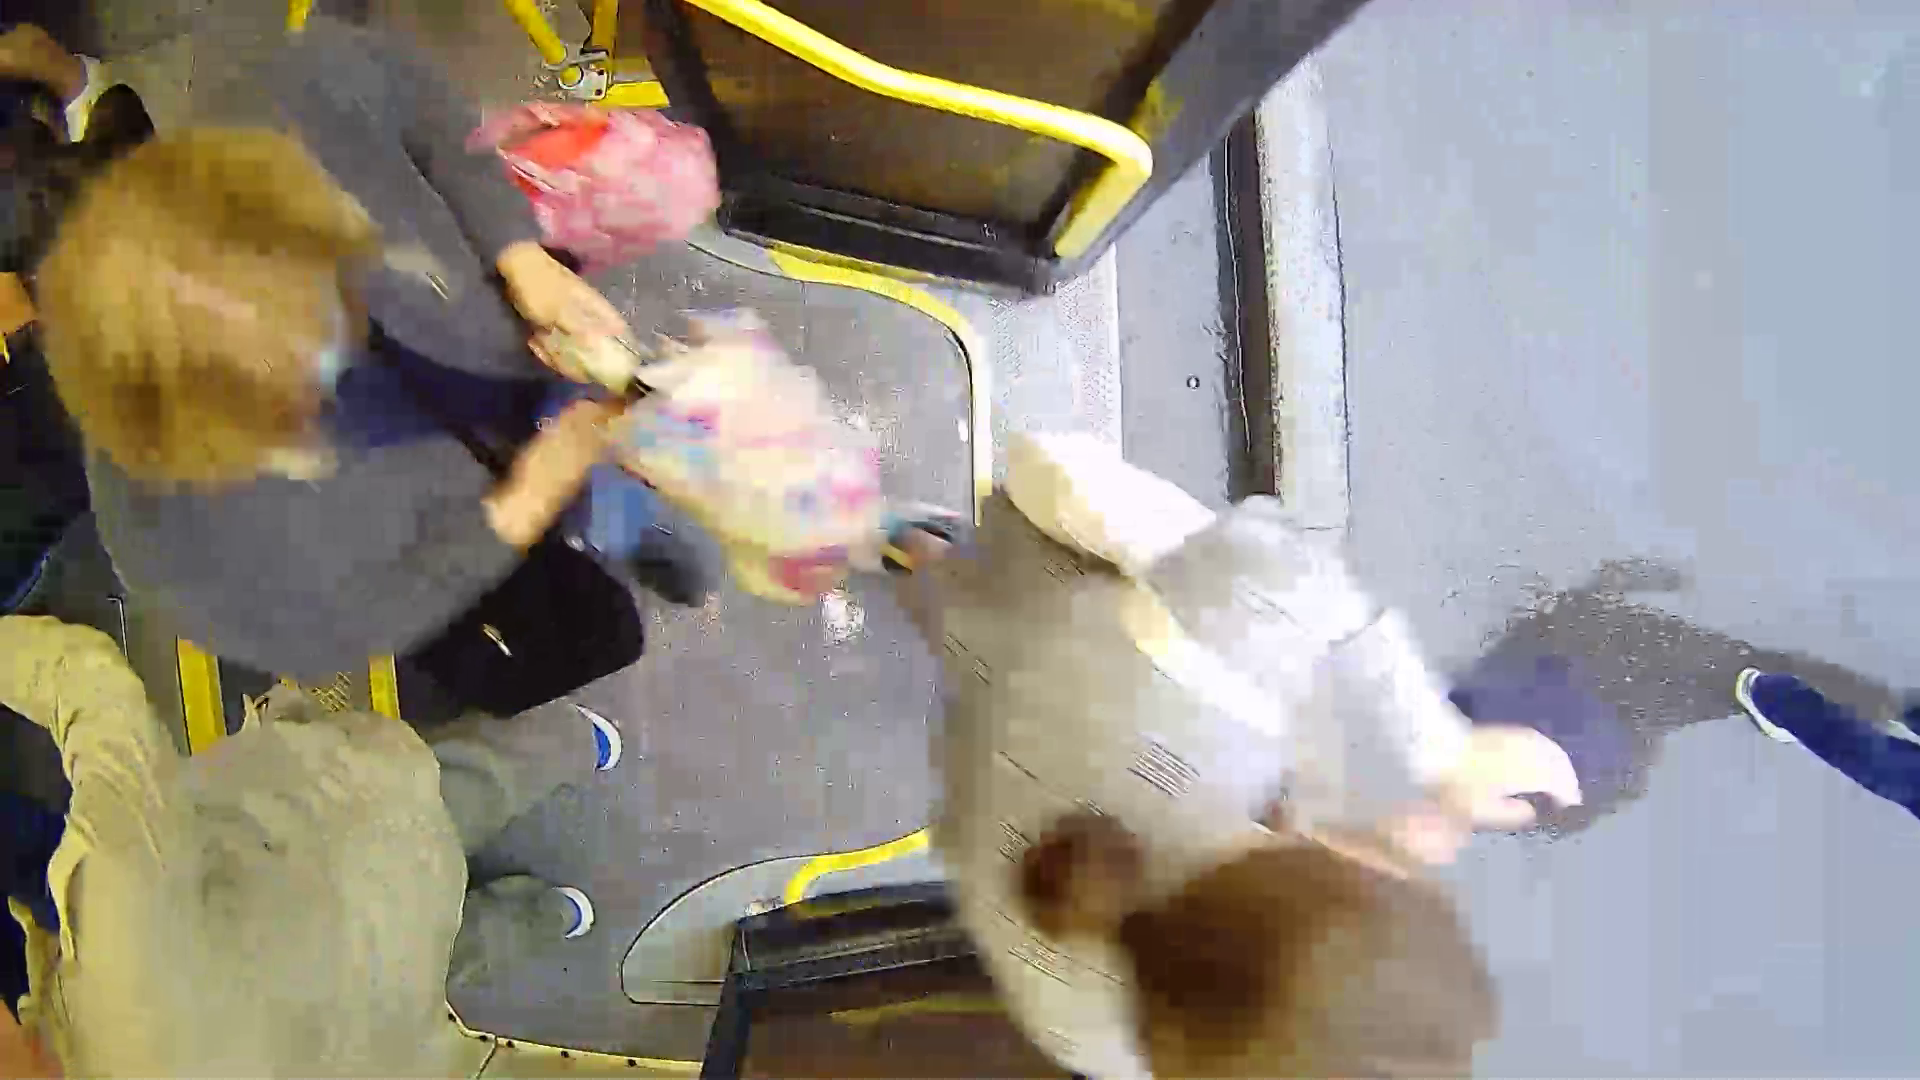person: (845, 442, 1634, 1080), (75, 72, 845, 678)
